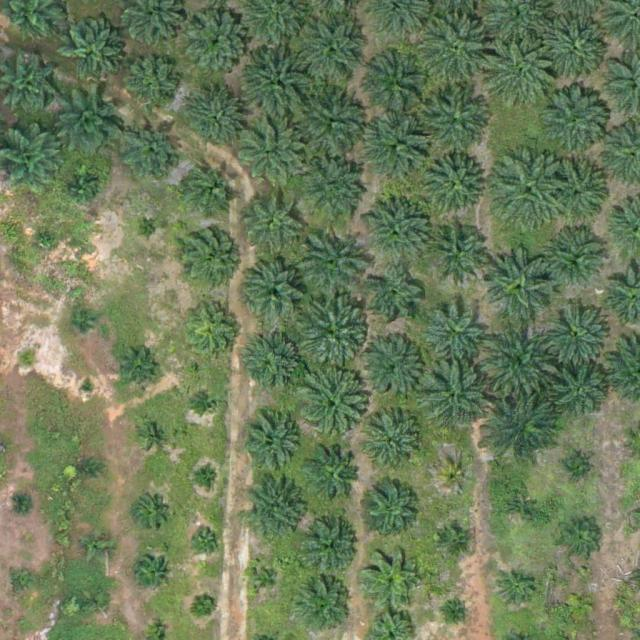Healthy: (238, 44, 316, 123), (294, 84, 372, 163), (417, 10, 495, 89), (484, 38, 562, 117), (536, 7, 614, 86), (534, 82, 612, 161), (489, 152, 567, 231), (480, 321, 558, 400), (485, 390, 563, 469), (293, 294, 371, 372), (293, 369, 371, 447), (57, 89, 127, 160), (297, 17, 368, 87), (420, 89, 490, 160), (542, 296, 612, 367), (486, 246, 556, 317), (422, 364, 493, 434), (237, 120, 307, 191), (364, 48, 434, 118), (363, 198, 433, 268), (299, 155, 369, 225), (297, 229, 367, 299), (187, 13, 250, 76), (245, 260, 308, 323), (179, 225, 242, 288), (182, 301, 245, 364), (360, 546, 423, 609), (62, 21, 124, 84), (185, 91, 247, 154), (546, 156, 608, 219), (429, 220, 491, 283), (425, 302, 487, 365), (365, 268, 427, 331), (362, 336, 424, 399), (239, 187, 301, 250), (244, 334, 306, 397), (242, 414, 304, 477), (178, 159, 240, 222), (247, 478, 309, 541), (548, 228, 610, 290), (423, 153, 485, 215), (368, 118, 430, 180), (124, 58, 179, 113), (554, 366, 609, 421), (369, 417, 424, 472), (297, 577, 352, 632), (304, 519, 359, 574), (309, 449, 364, 504), (125, 124, 179, 180), (365, 477, 419, 532)
Small: (561, 520, 600, 560), (134, 555, 173, 595), (501, 488, 540, 528), (117, 351, 156, 390), (499, 570, 538, 609), (66, 172, 97, 204), (136, 495, 167, 527), (560, 452, 591, 484), (565, 589, 596, 621), (83, 531, 114, 563), (441, 526, 472, 557), (251, 565, 282, 596), (191, 525, 222, 556), (77, 459, 101, 483), (36, 230, 60, 254), (137, 219, 161, 243), (16, 349, 40, 373), (198, 392, 222, 416), (194, 465, 217, 489), (143, 424, 166, 448), (14, 493, 38, 516), (87, 592, 111, 615), (196, 593, 219, 617), (69, 311, 92, 335), (11, 572, 34, 595), (450, 605, 465, 621), (80, 380, 96, 395)
Yellow: (441, 463, 472, 494)
